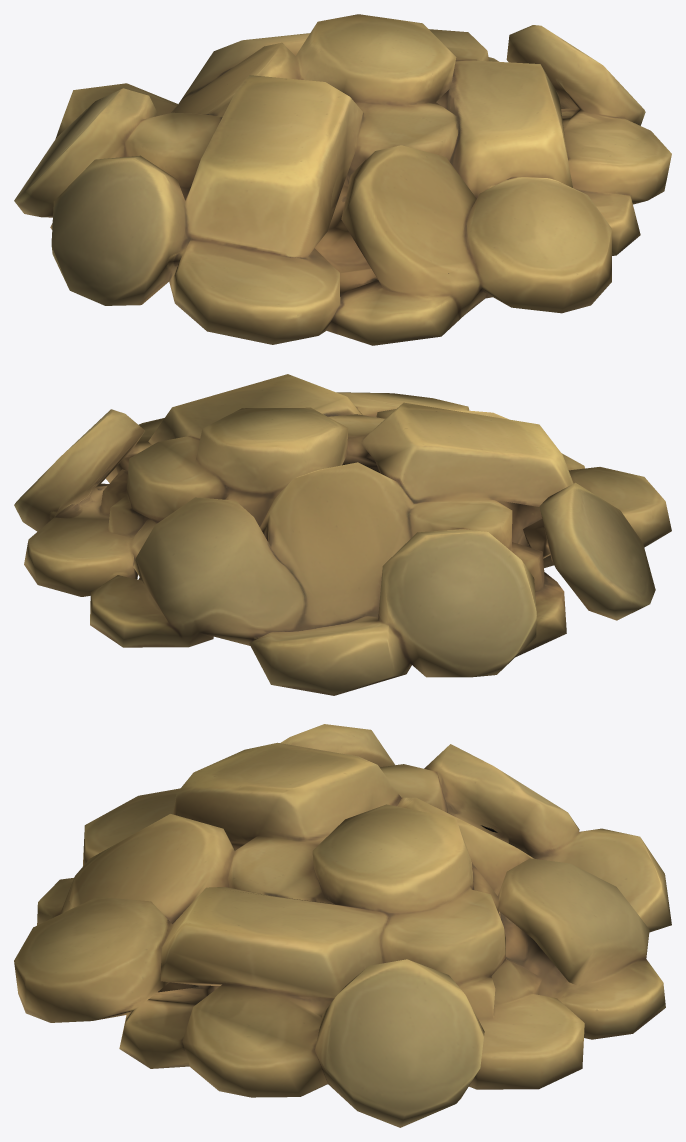
Rendered from gold.glb.
3 views of the same model, one above another, from view 1: azimuth 30°, elevation 25°; view 2: azimuth 150°, elevation 25°; view 3: azimuth 270°, elevation 25° (orthographic). The views are drawn at different scales.
Visible parts, largest first — view 1: geometry_0.001; view 2: geometry_0.001; view 3: geometry_0.001.
Part boxes in pixels (box(x1,y1,x2,y2)): geometry_0.001: box(14, 14, 671, 345); geometry_0.001: box(14, 374, 671, 695); geometry_0.001: box(14, 724, 671, 1127).
Bounding box in the file's own units: 1.99 × 0.5208 × 1.78.
1 material, 1 textured.
